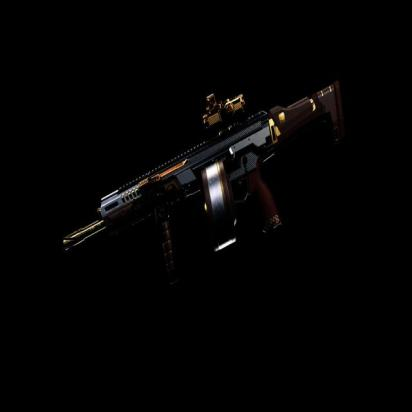Gun: (62, 75, 346, 267)
